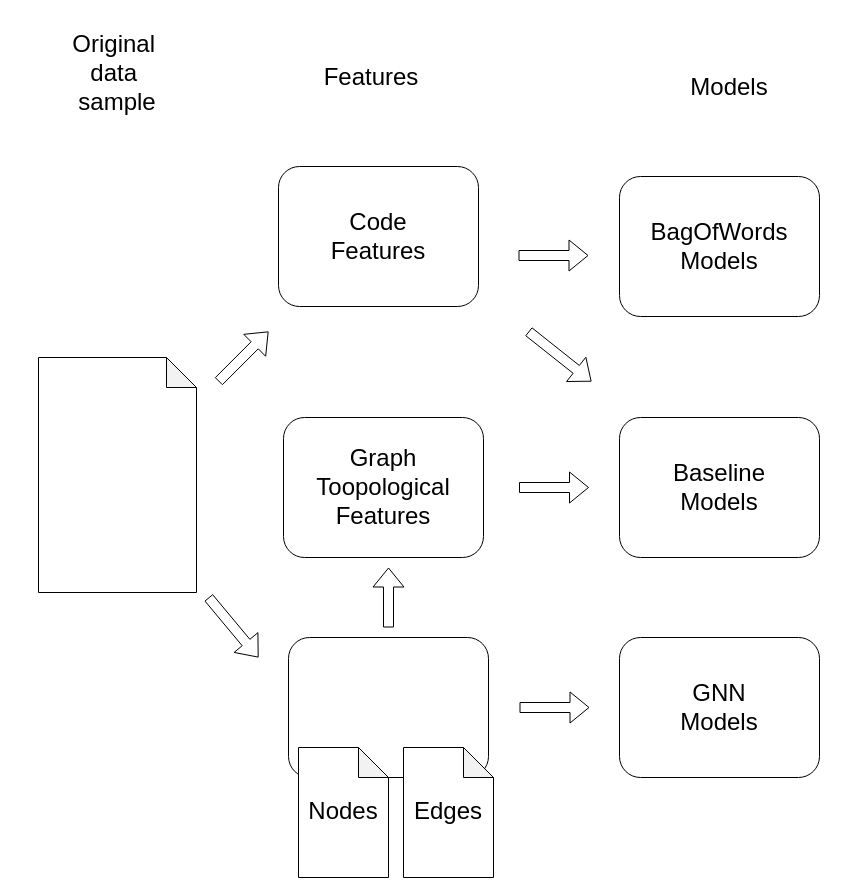
The diagram is 846 pixels wide and 895 high, and some of its shapes have lost their labels. The centre of each missing label's shape, as x and y in pixels:
"Assembly Function push ebp mov ebp, esp push ffffffff0h mov eax, 21h" belongs at (x=117, y=474).
"Graph" belongs at (x=388, y=707).
